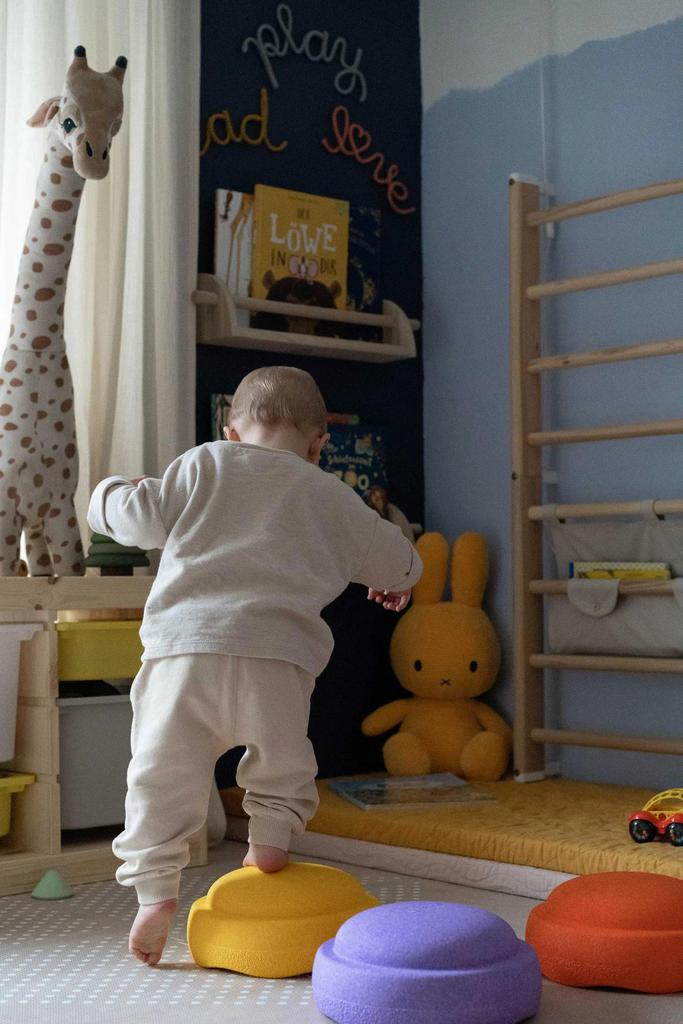child: (69, 349, 427, 960)
